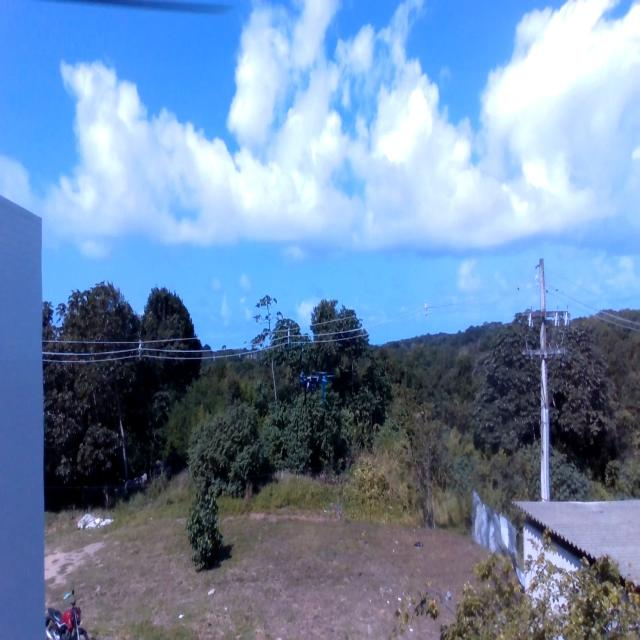-uav-: (291, 362, 337, 414)
